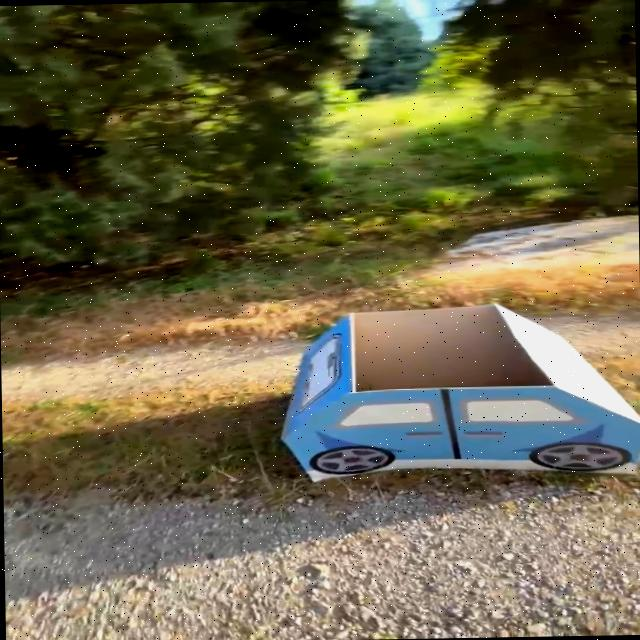blue_car: (227, 274, 640, 515)
